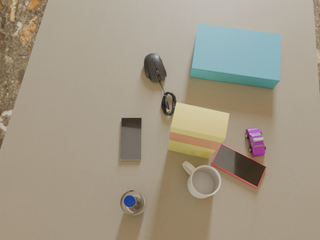book: (190, 24, 281, 89)
bottle: (120, 190, 146, 215)
box: (168, 103, 229, 159)
cup: (183, 161, 221, 198)
mouse: (144, 53, 167, 84)
phone: (211, 144, 266, 188), (120, 118, 142, 160)
toy_car: (246, 128, 266, 157)
